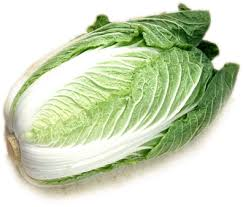cabbage: (5, 38, 233, 187)
